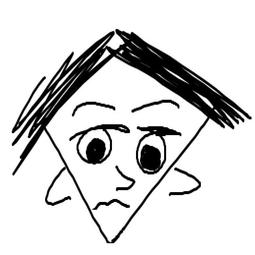ear: (37, 165, 75, 208), (167, 161, 209, 198)
eye: (74, 126, 114, 168), (135, 132, 166, 174)
eyebrow: (71, 99, 120, 118)
frowning_eyebrow: (129, 95, 181, 115)
line_unsmiling_mouth: (91, 197, 131, 211)
nose: (112, 165, 136, 192)
